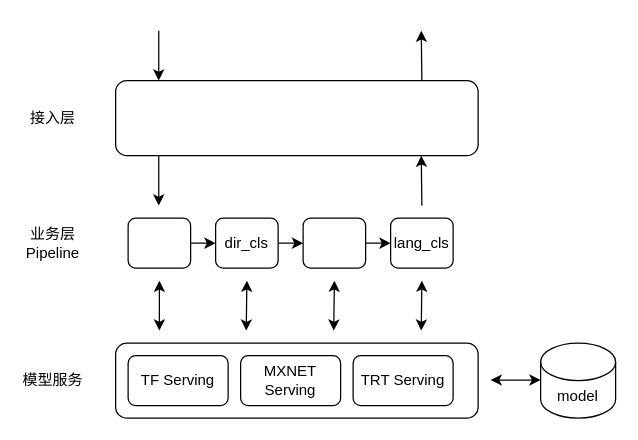
This 638x440 diagram has some shape labels left out. Here are the shapes that lost their labels. From the top down, the box of each, then its label:
(114, 79, 478, 156): gateway
(127, 217, 191, 268): text_det
(302, 217, 366, 268): text_rec
